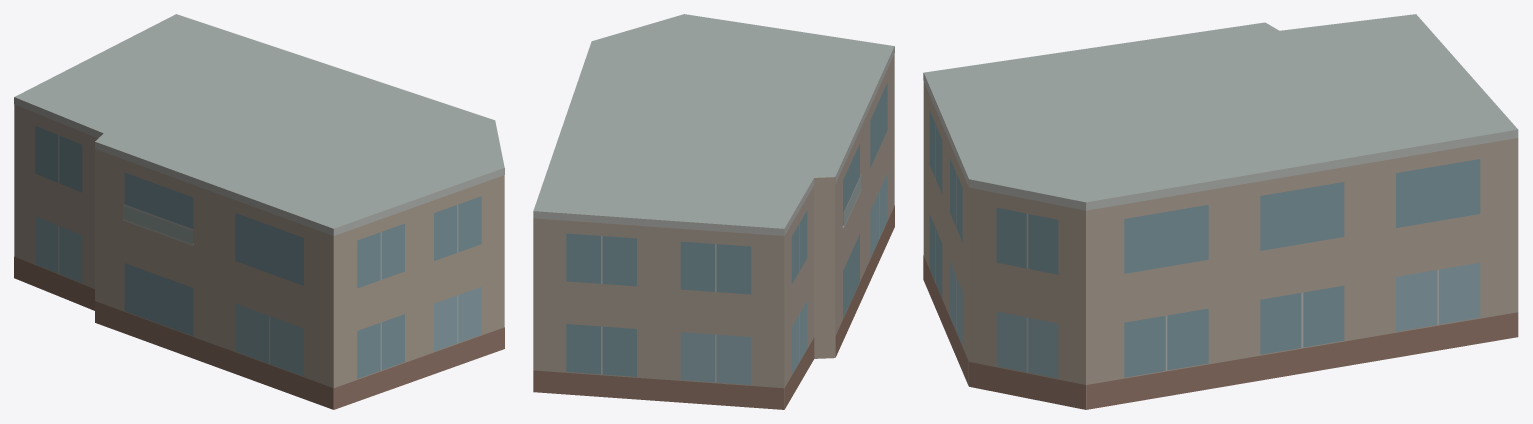
The model's file is survey-upis-32945864.glb.
The picture shows the model from 3 angles, left to right: view 1: azimuth 30°, elevation 25°; view 2: azimuth 150°, elevation 25°; view 3: azimuth 270°, elevation 25°; orthographic projection. The views are drawn at different scales.
Parts seen in each view (by area): view 1: survey-upis-32945864.tmp; view 2: survey-upis-32945864.tmp; view 3: survey-upis-32945864.tmp.
Part boxes in pixels (bbox=[...]): survey-upis-32945864.tmp: bbox=[14, 14, 504, 409]; survey-upis-32945864.tmp: bbox=[533, 14, 894, 409]; survey-upis-32945864.tmp: bbox=[923, 14, 1518, 409].
Bounding box in the file's own units: 11.89 × 6.1 × 15.86.
